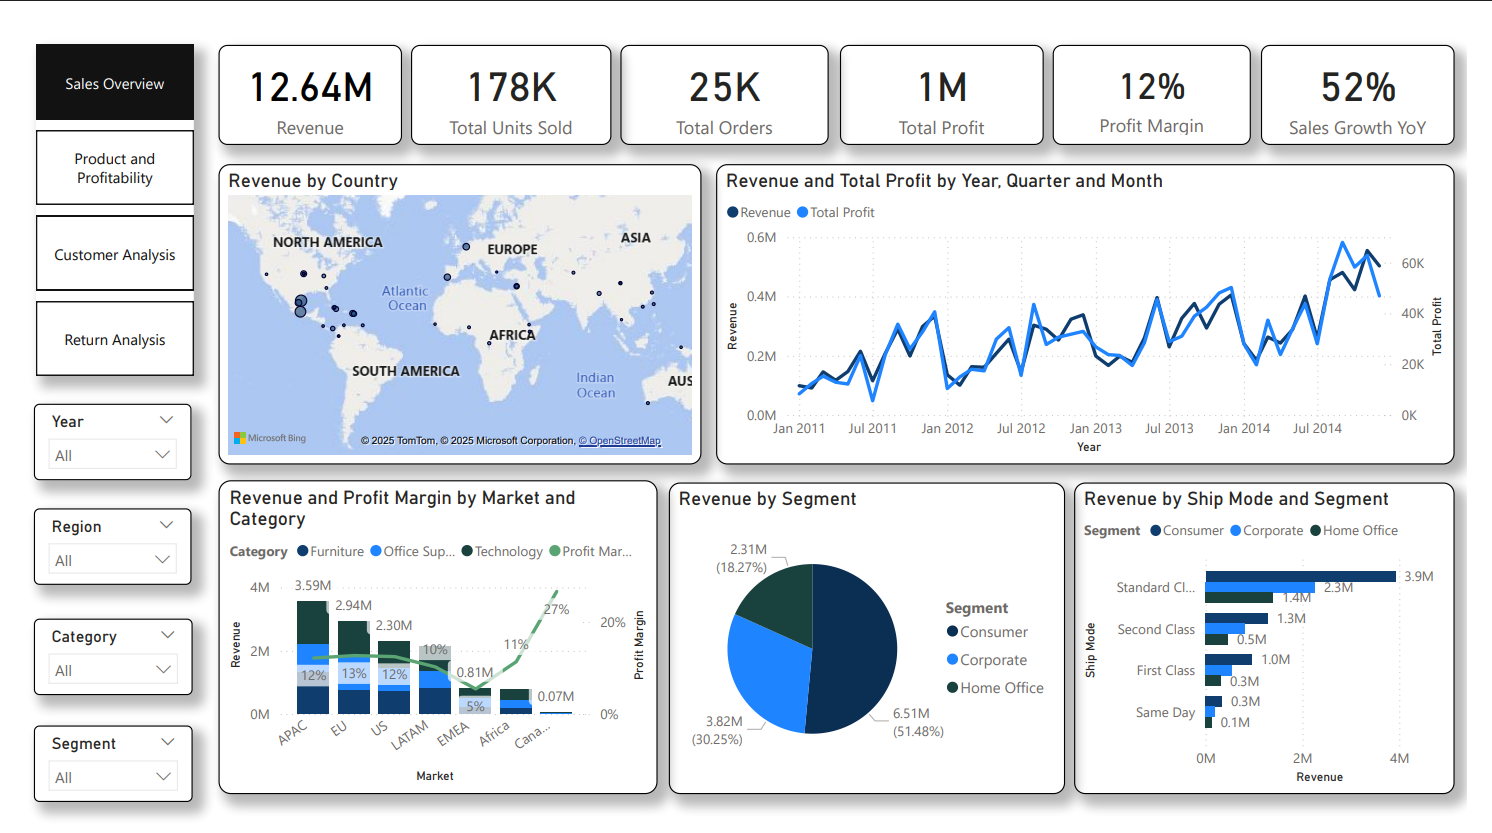

What the dashboard file says about the page in this screenshot:
{"tool":"powerbi","page":{"name":"Sales Overview","canvas":[1280,720],"ordinal":0},"visuals":[{"type":"card","fields":{"Values":["Sales_data.Total Sales"]},"box":[171.2,14.7,162.6,89.3],"z":0},{"type":"card","fields":{"Values":["Sales_data.Total Profit"]},"box":[722.7,14.7,181,89.3],"z":1000},{"type":"card","fields":{"Values":["Sales_data.Profit Margin"]},"box":[912.2,14.7,176.1,89.3],"z":2000},{"type":"card","fields":{"Values":["Sales_data.Total Orders"]},"box":[528.3,14.7,184.6,89.3],"z":3000},{"type":"card","fields":{"Values":["Sales_data.Sales Growth YoY"]},"box":[1096.9,14.7,172.4,89.3],"z":4000},{"type":"clusteredBarChart","fields":{"Y":["Sales_data.Total Sales"],"Category":["Sales_data.Ship Mode"],"Series":["Sales_data.Segment"]},"box":[930.6,403.5,338.7,277.6],"z":5000},{"type":"lineChart","fields":{"Category":["DateTable.Date.Variation.Date Hierarchy.Year","DateTable.Date.Variation.Date Hierarchy.Quarter","DateTable.Date.Variation.Date Hierarchy.Month","DateTable.Date.Variation.Date Hierarchy.Day"],"Y":["Sales_data.Total Sales"],"Y2":["Sales_data.Total Profit"]},"box":[612.6,121.1,656.7,266.6],"z":6000},{"type":"card","fields":{"Values":["Sales_data.Total Quantity"]},"box":[342.4,14.7,177.3,89.3],"z":7000},{"type":"map","fields":{"Size":["Sales_data.Total Sales"],"Category":["Sales_data.Country"]},"box":[171.2,121.1,429.2,266.6],"z":8000},{"type":"pieChart","fields":{"Y":["Sales_data.Total Sales"],"Category":["Sales_data.Segment"]},"box":[571.1,403.5,352.2,277.6],"z":9000},{"type":"lineStackedColumnComboChart","fields":{"Category":["Sales_data.Market"],"Y2":["Sales_data.Profit Margin"],"Series":["Sales_data.Category"],"Y":["Sales_data.Total Sales"]},"box":[171.2,402.3,390.1,278.8],"z":10000},{"type":"slicer","fields":{"Values":["DateTable.Year"]},"box":[7.3,333.8,139.4,68.5],"z":11000},{"type":"pageNavigator","box":[8.6,14.7,140.6,294.7],"z":12000},{"type":"slicer","fields":{"Values":["Sales_data.Region"]},"box":[7.3,426.8,140,68],"z":13000},{"type":"slicer","fields":{"Values":["Sales_data.Category"]},"box":[7.3,524.6,140.6,68],"z":14000},{"type":"slicer","fields":{"Values":["Sales_data.Segment"]},"box":[7.3,620,140.6,68.5],"z":15000}]}

Visuals, with their boxes in screenshot pixels (x1, y1, x2, y2), scaled from the page's 1280x720 canvas onto the 1492x833 screenshot:
card - Sales_data.Total Sales: region(200, 17, 389, 120)
card - Sales_data.Total Profit: region(842, 17, 1053, 120)
card - Sales_data.Profit Margin: region(1063, 17, 1269, 120)
card - Sales_data.Total Orders: region(616, 17, 831, 120)
card - Sales_data.Sales Growth YoY: region(1279, 17, 1480, 120)
clusteredBarChart - Sales_data.Total Sales x Sales_data.Ship Mode: region(1085, 467, 1480, 788)
lineChart - DateTable.Date.Variation.Date Hierarchy.Year x DateTable.Date.Variation.Date Hierarchy.Quarter: region(714, 140, 1480, 449)
card - Sales_data.Total Quantity: region(399, 17, 606, 120)
map - Sales_data.Total Sales x Sales_data.Country: region(200, 140, 700, 449)
pieChart - Sales_data.Total Sales x Sales_data.Segment: region(666, 467, 1076, 788)
lineStackedColumnComboChart - Sales_data.Market x Sales_data.Profit Margin: region(200, 465, 654, 788)
slicer - DateTable.Year: region(9, 386, 171, 465)
pageNavigator: region(10, 17, 174, 358)
slicer - Sales_data.Region: region(9, 494, 172, 572)
slicer - Sales_data.Category: region(9, 607, 172, 686)
slicer - Sales_data.Segment: region(9, 717, 172, 797)
